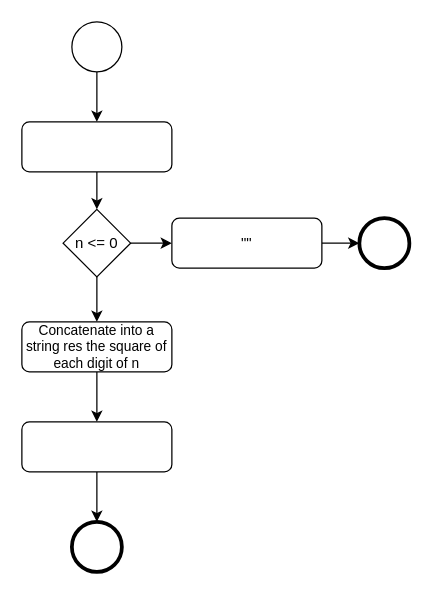
Image size: 433x595. Some labels were removed from this diagram. The box of each missing label's shape, as (x1, y1, x2, y2) in pixels:
Receive an integer: (21, 121, 172, 172)
Return res: (21, 421, 172, 472)
